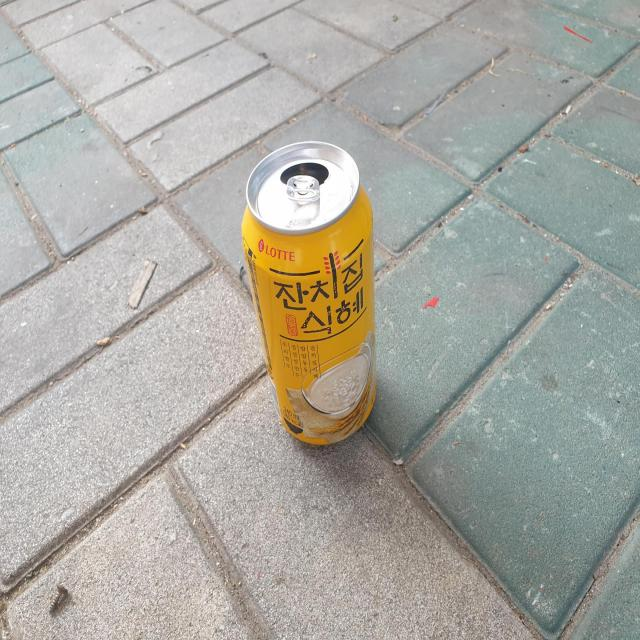can: (242, 140, 377, 445)
